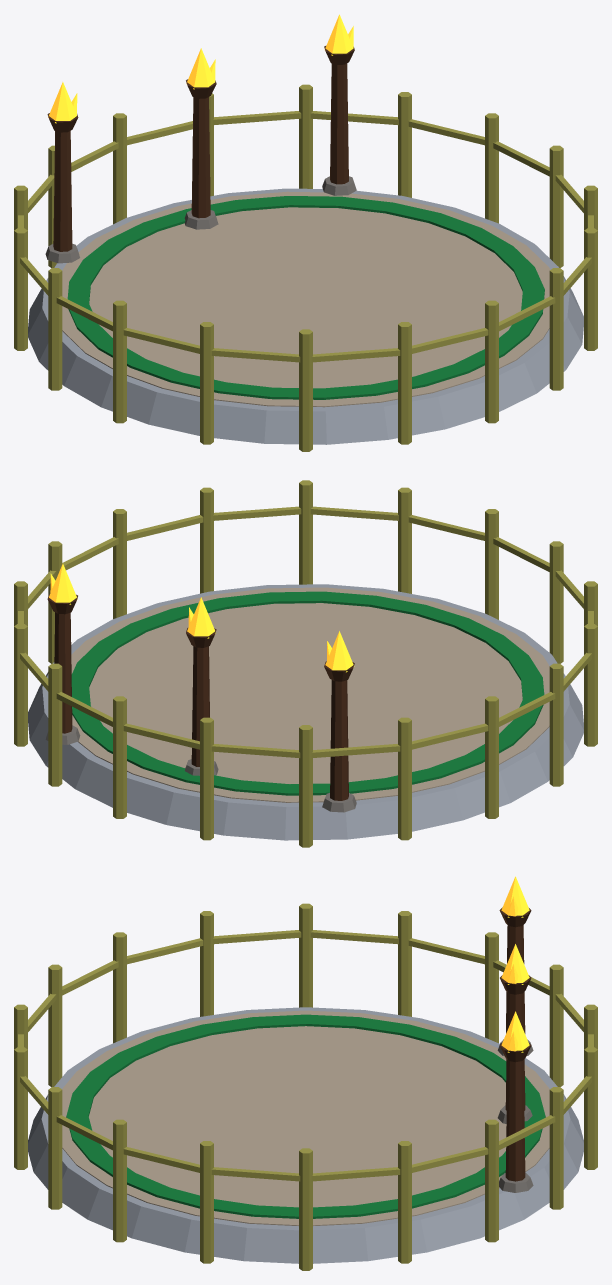
The model's file is panggung_uji_v001.glb.
The picture shows the model from 3 angles, top to bottom: view 1: azimuth 30°, elevation 25°; view 2: azimuth 150°, elevation 25°; view 3: azimuth 270°, elevation 25°; orthographic projection.
Visible parts, largest first — view 1: Arena_Uji, Pagar_Uji, Cincin_Aksen, Api_2_Nyala, Api_3_Nyala, Api_1_Nyala; view 2: Arena_Uji, Pagar_Uji, Cincin_Aksen, Api_2_Nyala, Api_3_Nyala, Api_1_Nyala; view 3: Arena_Uji, Pagar_Uji, Cincin_Aksen, Api_1_Nyala, Api_3_Nyala, Api_2_Nyala.
Boxes of the visible parts, x1=… form: Arena_Uji: x1=28, y1=46, x2=583, y2=444; Pagar_Uji: x1=14, y1=84, x2=597, y2=451; Cincin_Aksen: x1=67, y1=196, x2=544, y2=399; Api_2_Nyala: x1=186, y1=48, x2=215, y2=89; Api_3_Nyala: x1=324, y1=14, x2=353, y2=55; Api_1_Nyala: x1=48, y1=82, x2=77, y2=123; Arena_Uji: x1=28, y1=584, x2=583, y2=840; Pagar_Uji: x1=14, y1=480, x2=597, y2=847; Cincin_Aksen: x1=71, y1=591, x2=544, y2=795; Api_2_Nyala: x1=187, y1=597, x2=215, y2=638; Api_3_Nyala: x1=49, y1=563, x2=77, y2=604; Api_1_Nyala: x1=325, y1=631, x2=354, y2=672; Arena_Uji: x1=28, y1=907, x2=583, y2=1263; Pagar_Uji: x1=14, y1=903, x2=597, y2=1270; Cincin_Aksen: x1=66, y1=1014, x2=545, y2=1218; Api_1_Nyala: x1=501, y1=876, x2=529, y2=917; Api_3_Nyala: x1=501, y1=1011, x2=529, y2=1052; Api_2_Nyala: x1=501, y1=944, x2=529, y2=984.
Bounding box in the file's own units: 5.92 × 2.24 × 5.85.
